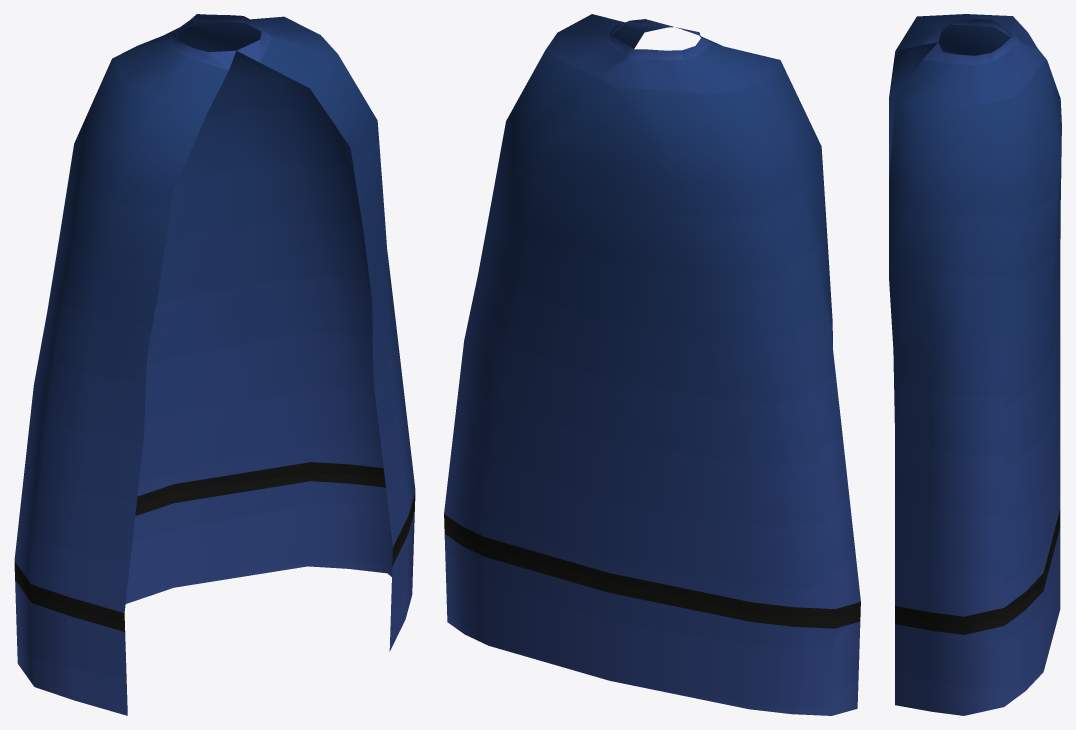
The model's file is Jubah_Kakek.fbx.
3 views of the same model, side by side, from view 1: azimuth 30°, elevation 25°; view 2: azimuth 150°, elevation 25°; view 3: azimuth 270°, elevation 25° (orthographic). The views are drawn at different scales.
Parts seen in each view (by area): view 1: Jubahh.001; view 2: Jubahh.001; view 3: Jubahh.001.
Part boxes in pixels (bbox=[...]): Jubahh.001: bbox=[14, 14, 415, 715]; Jubahh.001: bbox=[444, 14, 860, 715]; Jubahh.001: bbox=[889, 14, 1061, 715].
Size of the model in its own units: 120 by 186 by 47.92.
